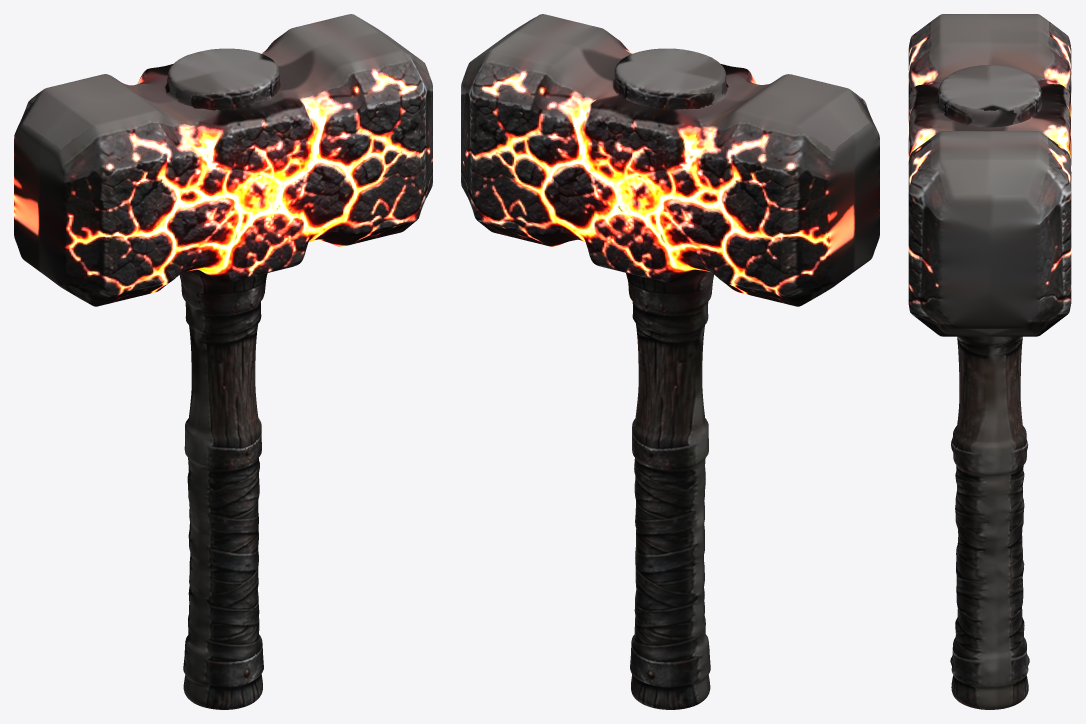
The model's file is pyre_molten_hammer.glb.
The picture shows the model from 3 angles, left to right: view 1: azimuth 30°, elevation 25°; view 2: azimuth 150°, elevation 25°; view 3: azimuth 270°, elevation 25°; orthographic projection. The views are drawn at different scales.
Parts seen in each view (by area): view 1: geometry_0; view 2: geometry_0; view 3: geometry_0.
Part boxes in pixels (x1,y1,x2,y2): geometry_0: [14, 14, 432, 709]; geometry_0: [461, 14, 879, 709]; geometry_0: [908, 14, 1071, 709].
Bounding box in the file's own units: 0.9525 × 1.55 × 0.375.
1 material, 1 textured.
